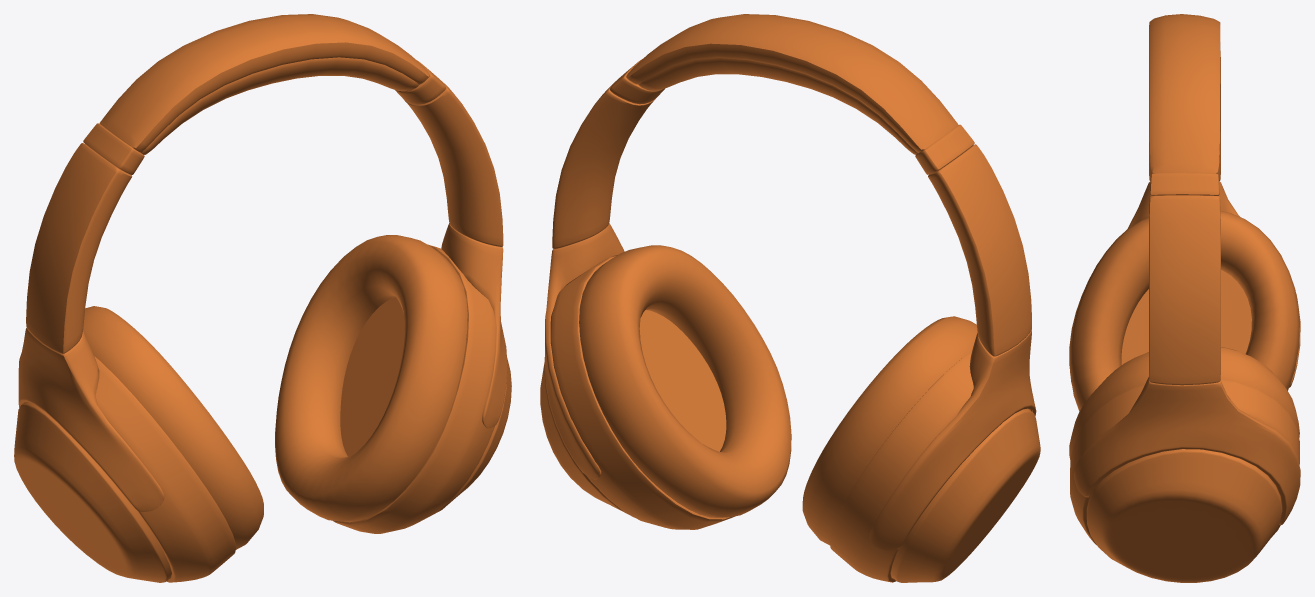
The model's file is ThreejsScene (1).glb.
3 views of the same model, side by side, from view 1: azimuth 30°, elevation 25°; view 2: azimuth 150°, elevation 25°; view 3: azimuth 270°, elevation 25° (orthographic). The views are drawn at different scales.
Visible parts, largest first — view 1: уховнешнее001; view 2: уховнешнее001; view 3: уховнешнее001.
Boxes of the visible parts, x1,y1,x2,y2 form: уховнешнее001: [14, 14, 511, 582]; уховнешнее001: [540, 14, 1040, 582]; уховнешнее001: [1069, 14, 1300, 582].
Bounding box in the file's own units: 4.3 × 4.62 × 1.99.
